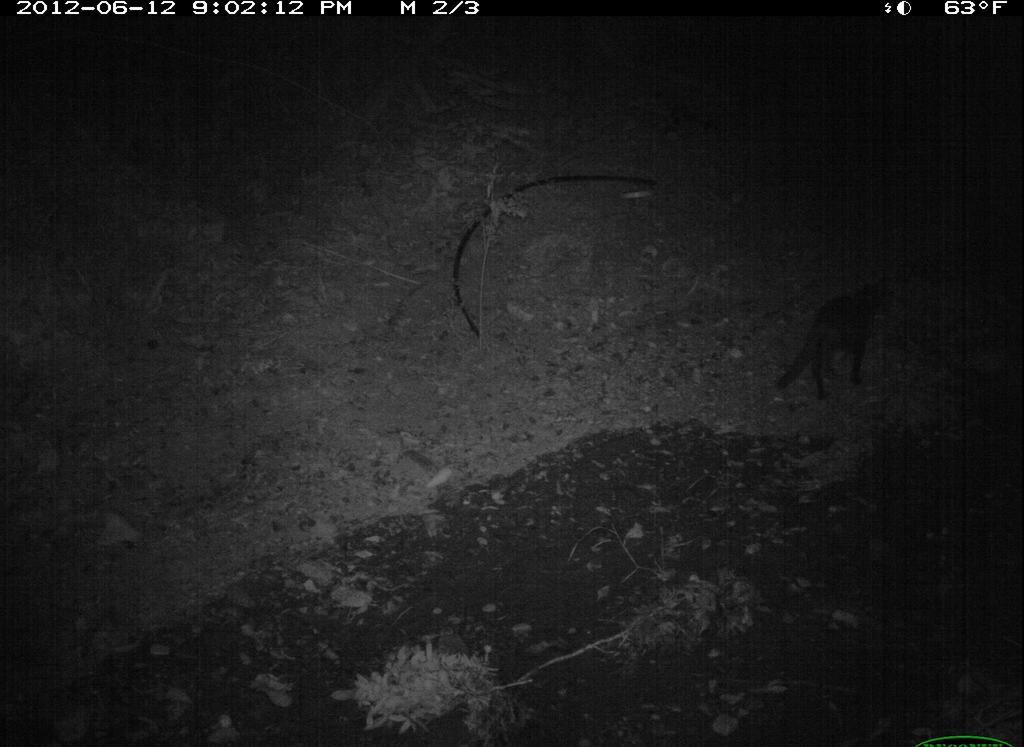cat: (774, 271, 905, 418)
